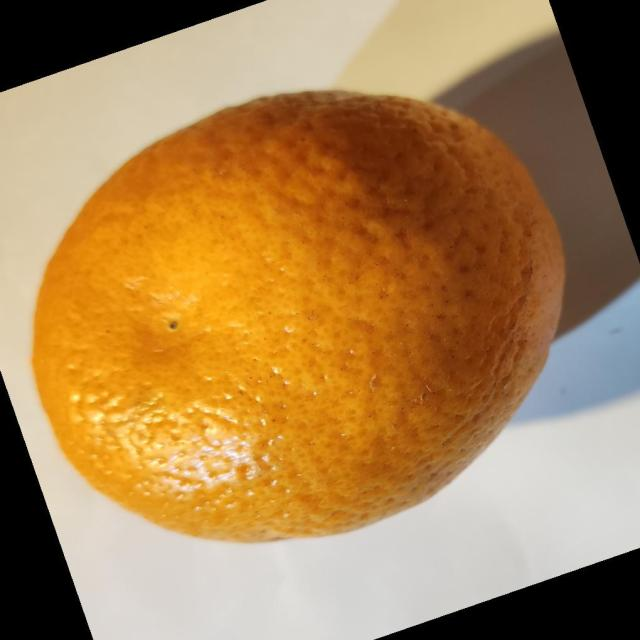fresh orange: (30, 86, 567, 544)
